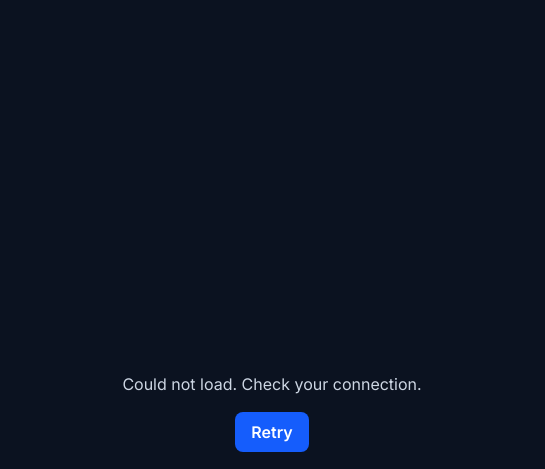
Test case: offers a retry when the active sessions query fails
Click the button "Retry".
click(272, 432)  # box x1=235 y1=412 x2=309 y2=452
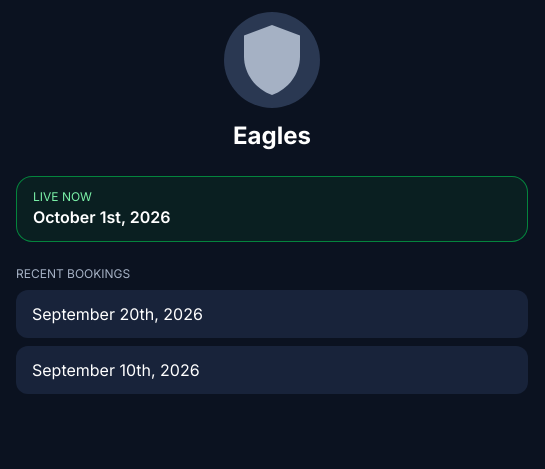
Result: the link to "/s/tok-a" is shown at x1=16 y1=176 x2=528 y2=242
Result: the link to "/s/tok-b" is shown at x1=16 y1=290 x2=528 y2=338
Result: the button "Retry" is gone
